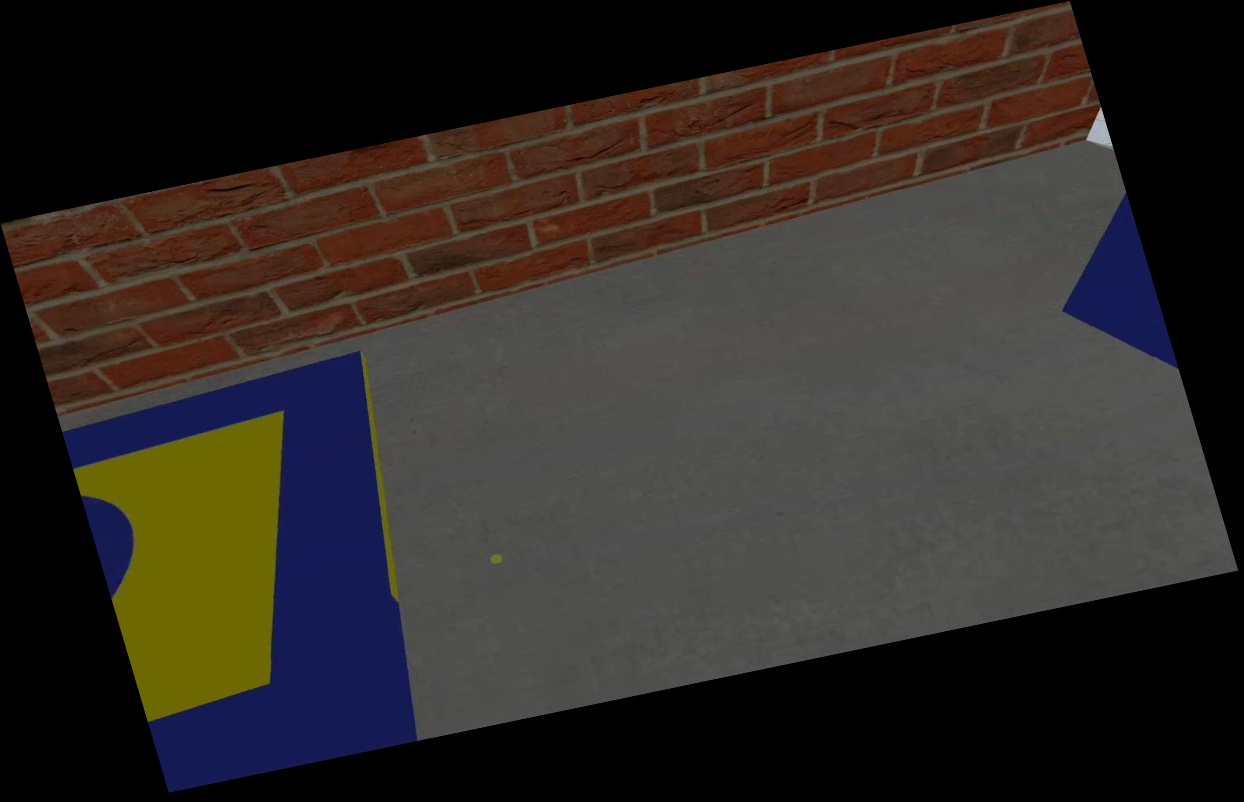large_base: (56, 345, 480, 789)
